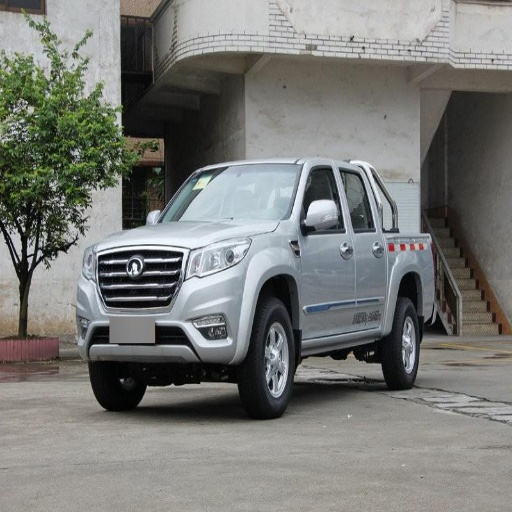front_bumper: (73, 245, 257, 365)
front_glass: (157, 164, 300, 222)
front_left_door: (298, 164, 354, 339)
trunk: (387, 234, 439, 318)
